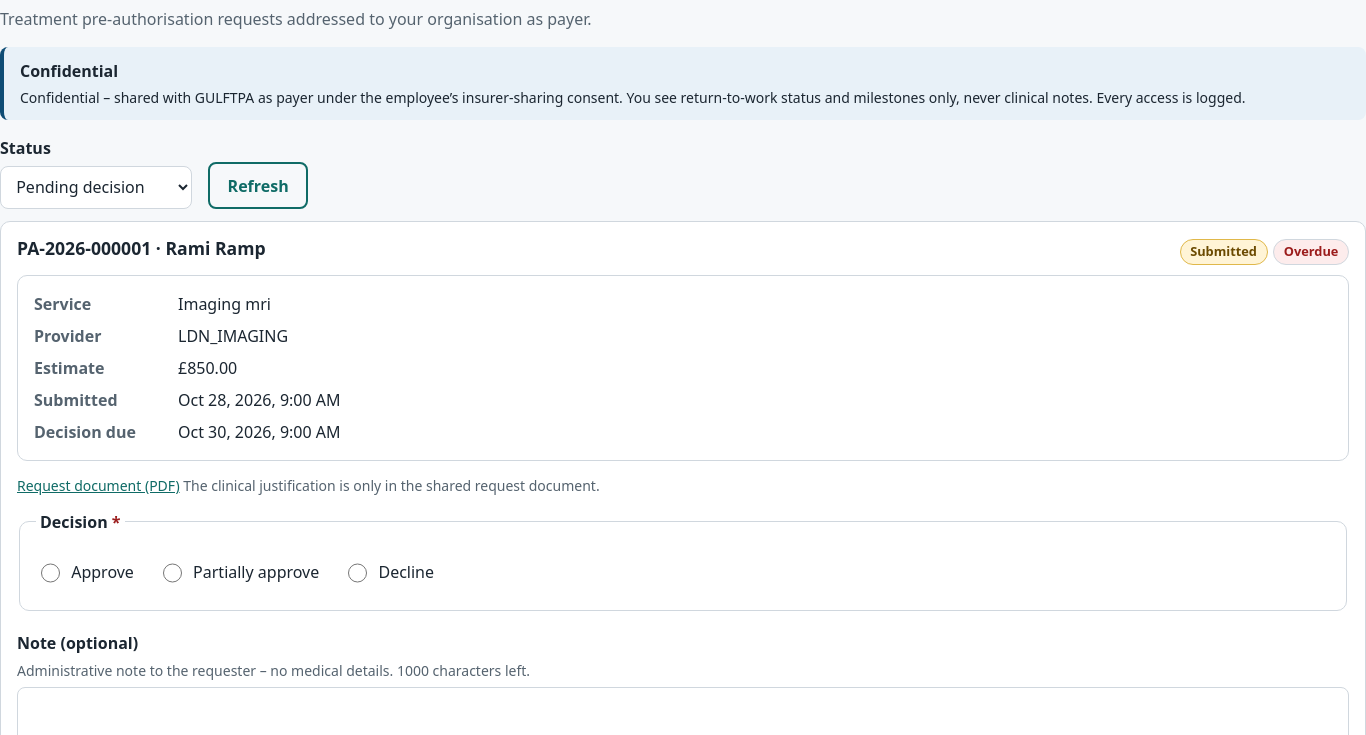
Test: pre-authorisation decisions › lists pending requests and records a partial approval
Expected: the heading "PA-2026-000001 · Rami Ramp" is shown, [17,237,266,259]
Expected: the text "£850.00" is shown, [178,356,237,378]
Click the radio button labelled "Partially approve": (172, 573) [163,564,182,583]
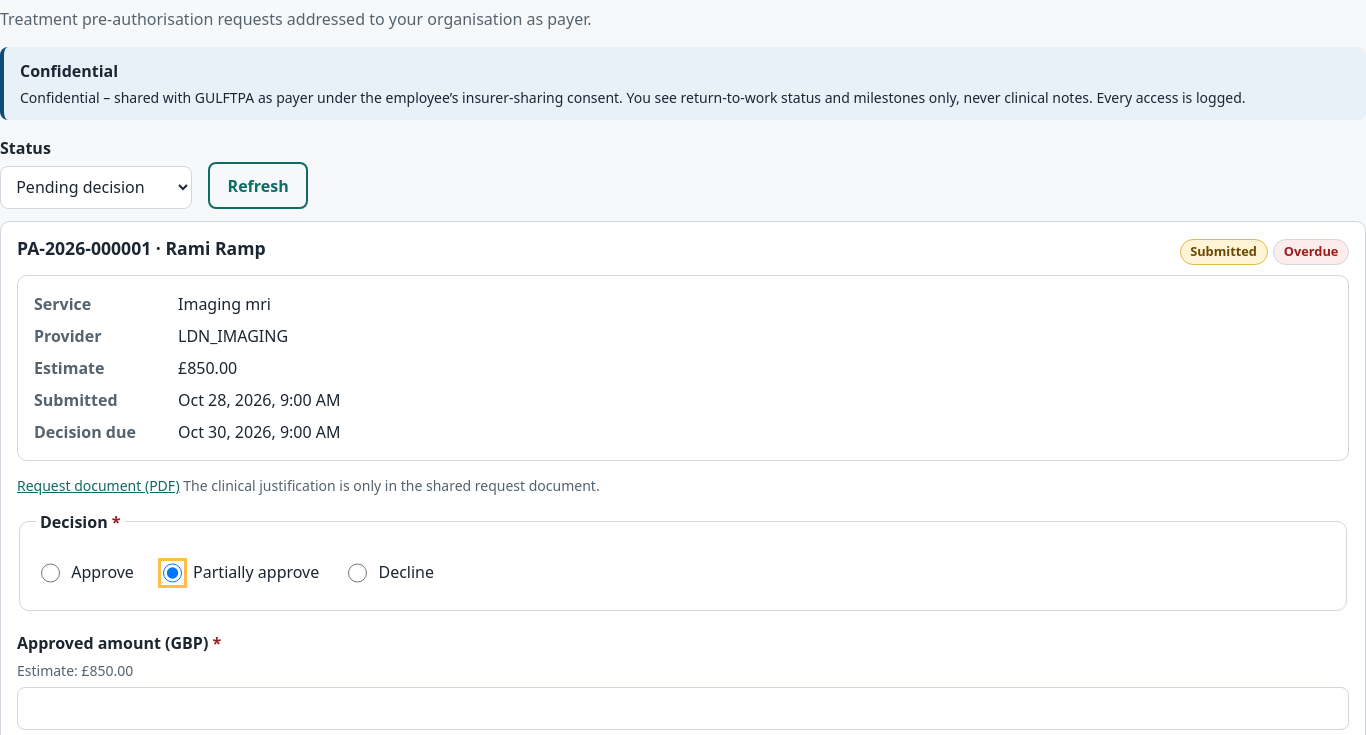
In the field labelled "Approved amount (GBP) *": (683, 708) [17,687,1349,730], type "900"
(page scrolled)
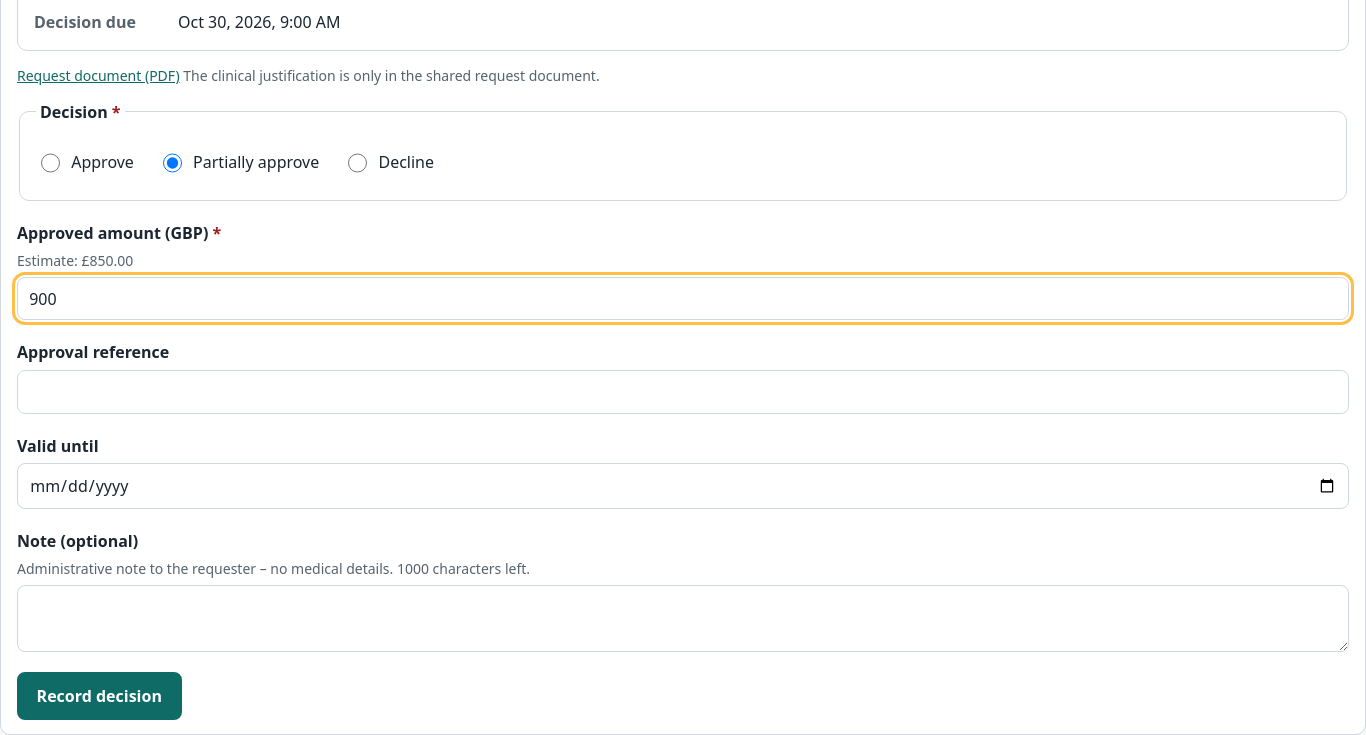
Click the button "Record decision": (99, 696) [17,672,182,720]
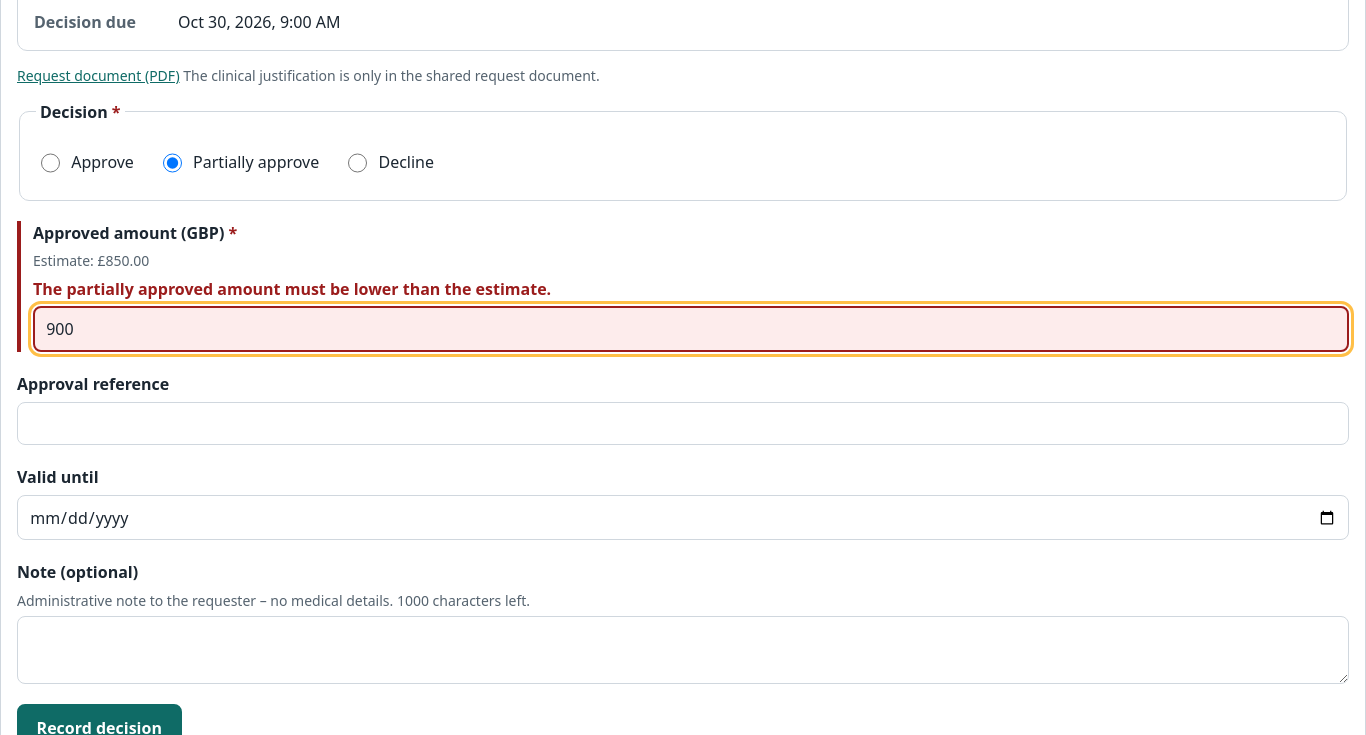
Expected: the text "The partially approved amount must be lower than the estimate." is shown, [33,278,551,300]
Replace the text in the field labelled "Approved amount (GBP) *" with "600": (691, 329) [33,306,1349,352]
In the field labelled "Approval reference": (683, 423) [17,402,1349,445], type "GT-2026-55"
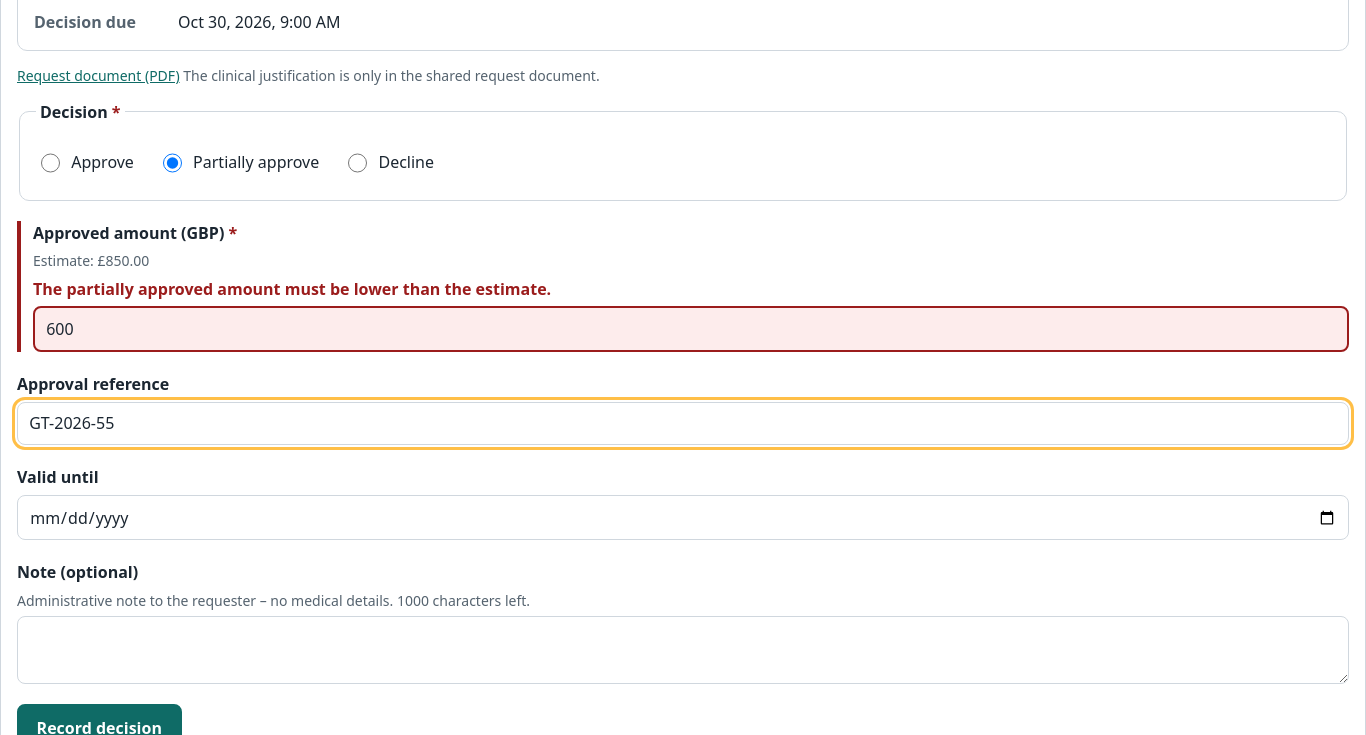
In the date field labelled "Valid until": (683, 518) [17,495,1349,540], type "2099-12-31"
(page scrolled)
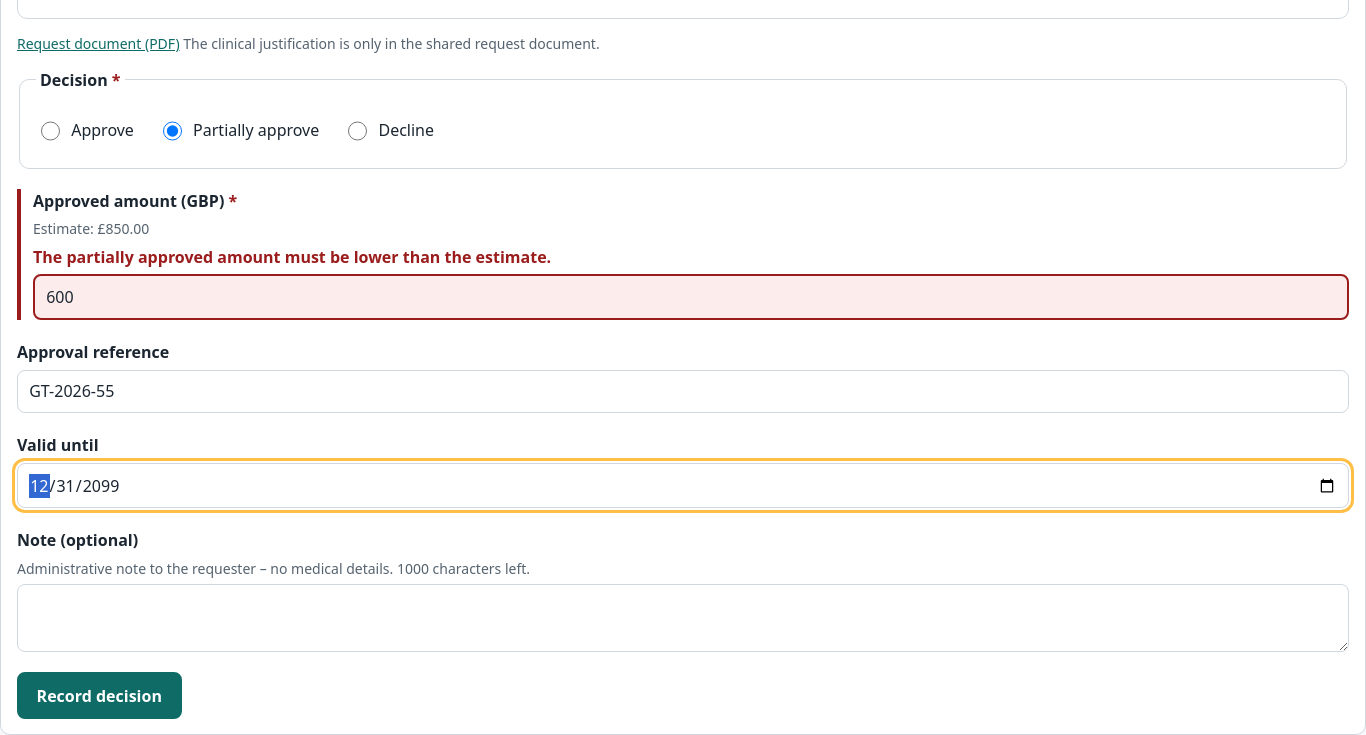
Click the button "Record decision": (99, 696) [17,672,182,719]
(page scrolled)
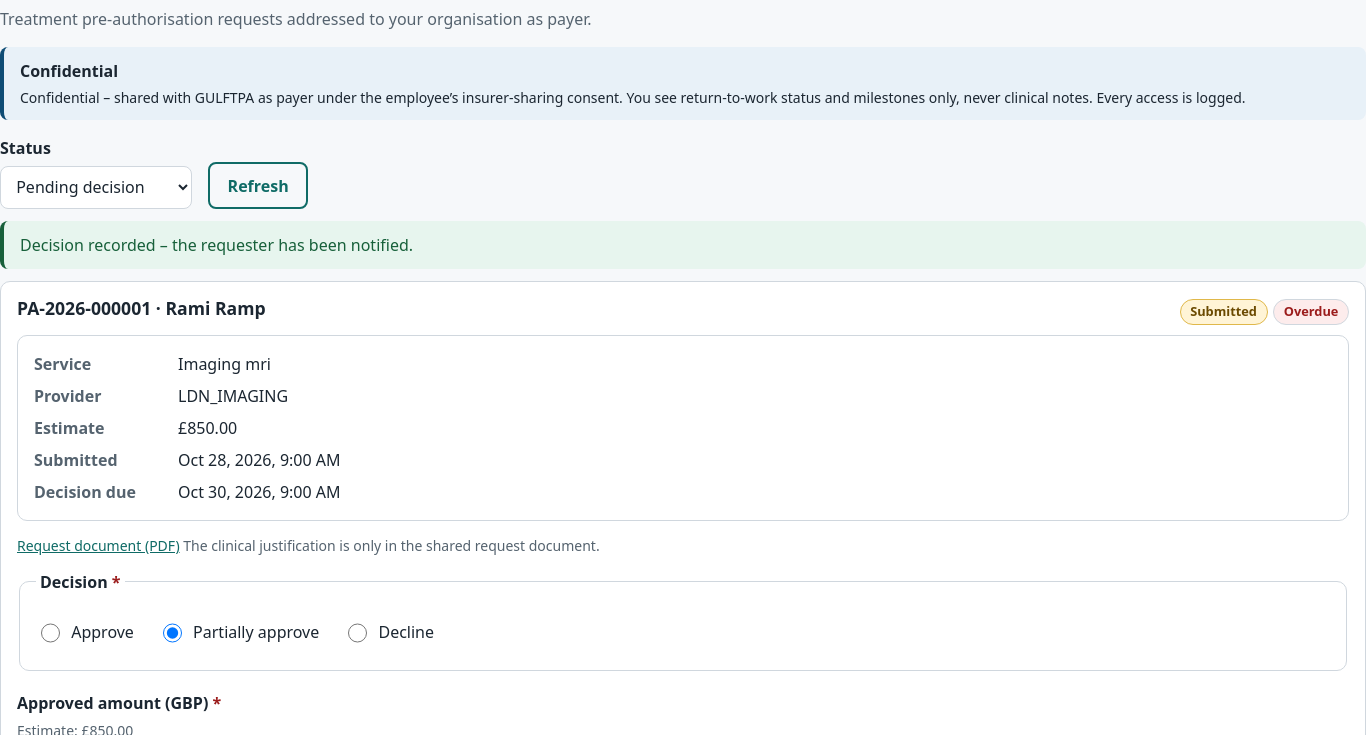
Expected: the text "Decision recorded – the requester has been notified." is shown, [0,221,1365,269]
